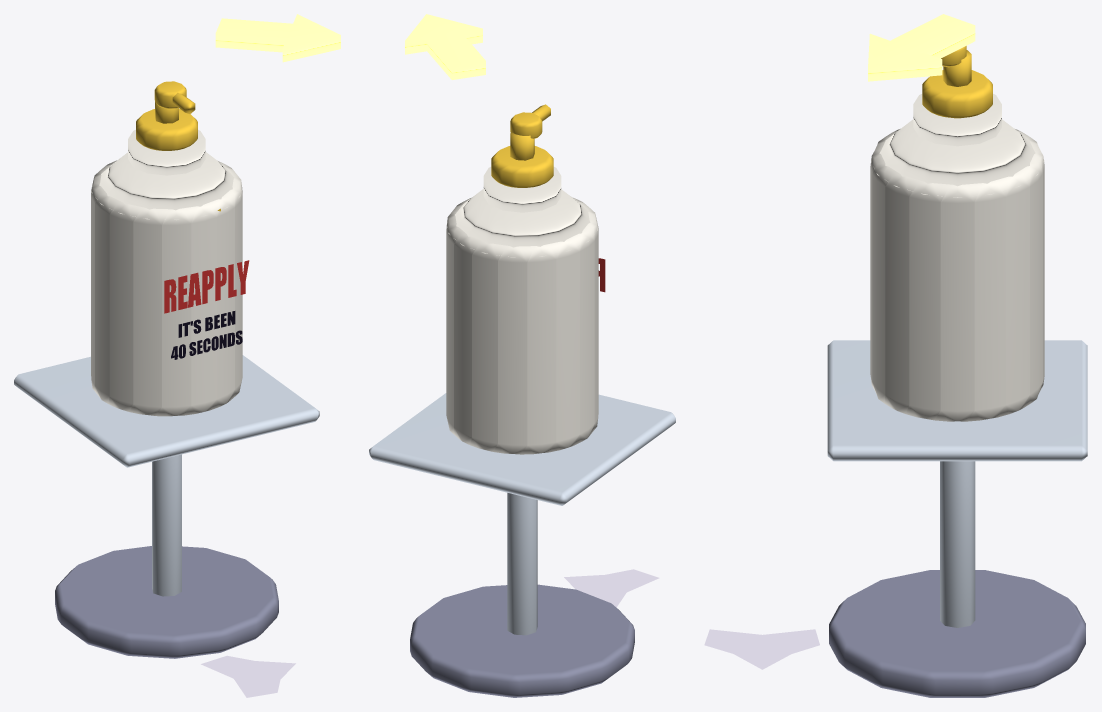
The model's file is spf_dispenser.glb.
3 views of the same model, side by side, from view 1: azimuth 30°, elevation 25°; view 2: azimuth 150°, elevation 25°; view 3: azimuth 270°, elevation 25° (orthographic). The views are drawn at different scales.
Visible parts, largest first — view 1: Stand, Arrow.001; view 2: Stand, Arrow.001; view 3: Stand, Arrow.001.
Boxes of the visible parts, x1=… form: Stand: x1=14, y1=81, x2=319, y2=697; Arrow.001: x1=215, y1=14, x2=340, y2=62; Stand: x1=369, y1=104, x2=675, y2=697; Arrow.001: x1=405, y1=14, x2=485, y2=79; Stand: x1=704, y1=46, x2=1087, y2=697; Arrow.001: x1=868, y1=14, x2=975, y2=81.
Size of the model in its own units: 0.5213 by 1.23 by 0.6484.
